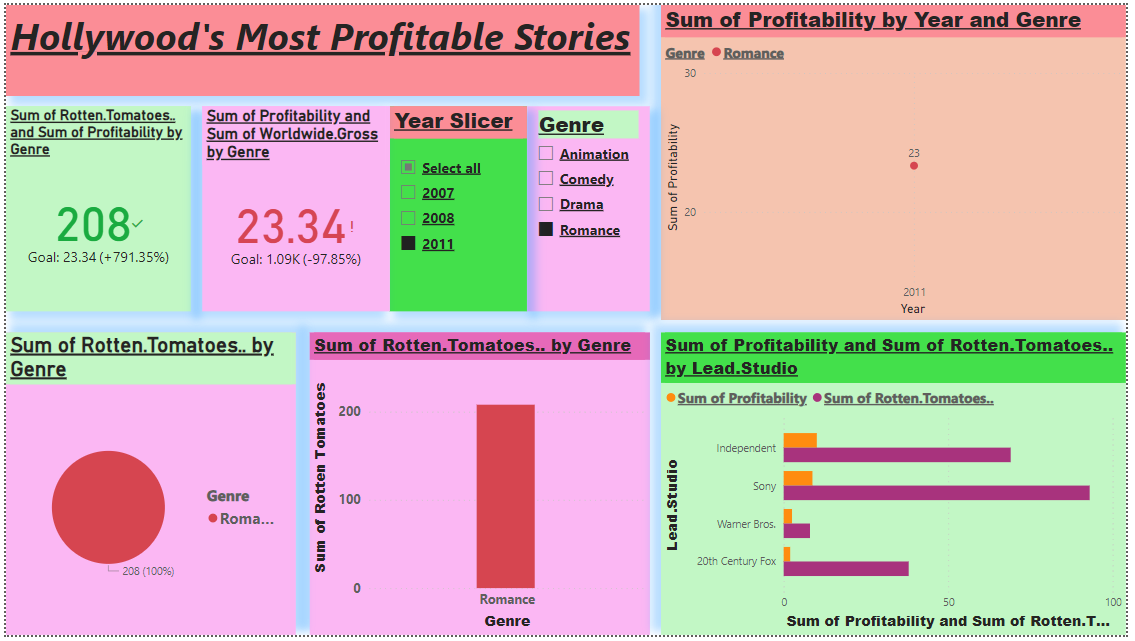

This screenshot's page, from the dashboard's own definition file:
{"tool":"powerbi","page":{"name":"Hollywoods Most Profitable Stories","canvas":[1280,720],"ordinal":0},"visuals":[{"type":"clusteredColumnChart","fields":{"Category":["clean_df.Genre"],"Y":["Sum(clean_df.Rotten.Tomatoes..)"]},"box":[347.1,374.3,388.6,345.7],"z":0},{"type":"lineChart","fields":{"Category":["clean_df.Year"],"Y":["Sum(clean_df.Profitability)"],"Series":["clean_df.Genre"]},"box":[748.6,0,531.4,360],"z":1},{"type":"textbox","box":[0,0,724.3,104.3],"z":2},{"type":"pieChart","fields":{"Series":["clean_df.Genre"],"Y":["Sum(clean_df.Rotten.Tomatoes..)"]},"box":[0,374.3,331.4,345.7],"z":3},{"type":"slicer","fields":{"Values":["clean_df.Genre"]},"box":[595.7,115.7,140,234.3],"z":4},{"type":"slicer","title":"Year Slicer","fields":{"Values":["clean_df.Year"]},"box":[438.6,115.7,157.1,234.3],"z":5},{"type":"kpi","fields":{"Indicator":["Sum(clean_df.Rotten.Tomatoes..)"],"Goal":["Sum(clean_df.Profitability)"],"TrendLine":["clean_df.Genre"]},"box":[0,115.7,211.4,234.3],"z":6},{"type":"kpi","fields":{"TrendLine":["clean_df.Genre"],"Indicator":["Sum(clean_df.Profitability)"],"Goal":["Sum(clean_df.Worldwide.Gross)"]},"box":[224.3,115.7,214.3,234.3],"z":7},{"type":"clusteredBarChart","fields":{"Category":["clean_df.Lead.Studio"],"Y":["Sum(clean_df.Profitability)","Sum(clean_df.Rotten.Tomatoes..)"]},"box":[748.6,374.3,531.4,345.7],"z":8}]}

Visuals, with their boxes in screenshot pixels (x1, y1, x2, y2), scaled from the page's 1280x720 canvas onto the 1135x641 screenshot:
clusteredColumnChart - clean_df.Genre x Sum(clean_df.Rotten.Tomatoes..): x1=308, y1=333, x2=652, y2=640
lineChart - clean_df.Year x Sum(clean_df.Profitability): x1=664, y1=0, x2=1134, y2=320
textbox: x1=0, y1=0, x2=642, y2=93
pieChart - clean_df.Genre x Sum(clean_df.Rotten.Tomatoes..): x1=0, y1=333, x2=294, y2=640
slicer - clean_df.Genre: x1=528, y1=103, x2=652, y2=312
"Year Slicer" slicer: x1=389, y1=103, x2=528, y2=312
kpi - Sum(clean_df.Rotten.Tomatoes..) x Sum(clean_df.Profitability): x1=0, y1=103, x2=187, y2=312
kpi - clean_df.Genre x Sum(clean_df.Profitability): x1=199, y1=103, x2=389, y2=312
clusteredBarChart - clean_df.Lead.Studio x Sum(clean_df.Profitability): x1=664, y1=333, x2=1134, y2=640
